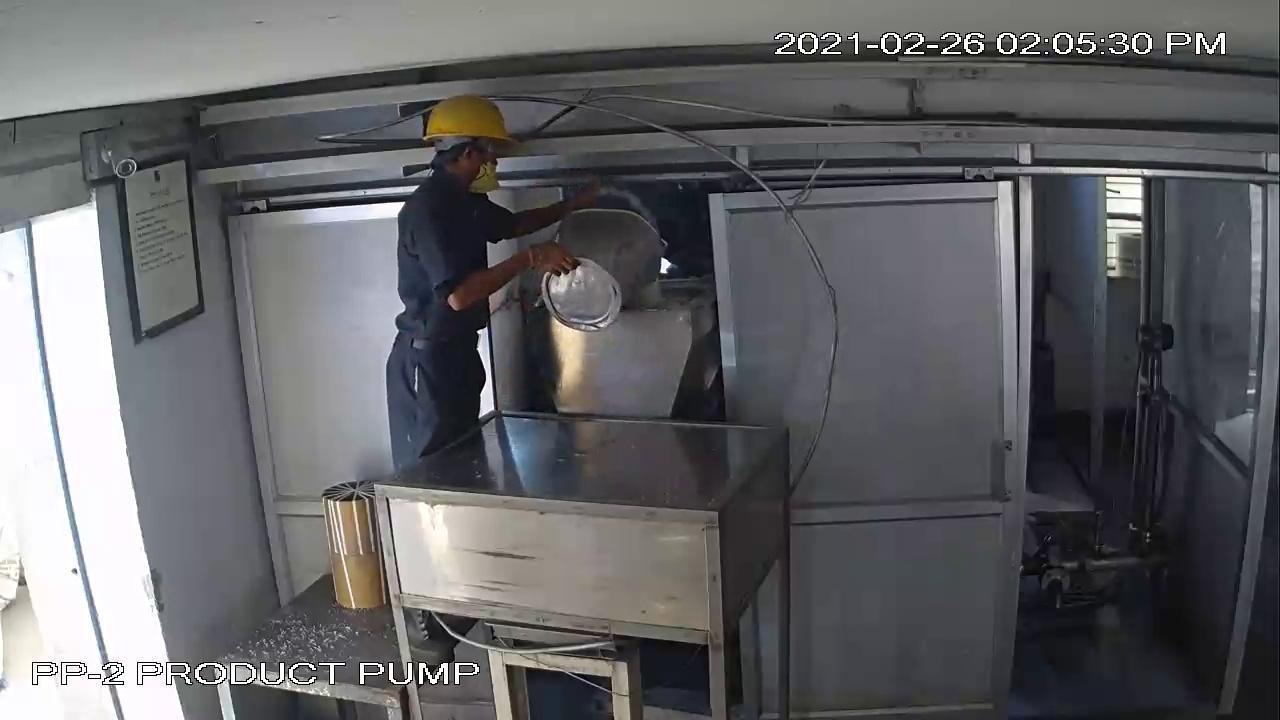helmet: (412, 79, 534, 173)
